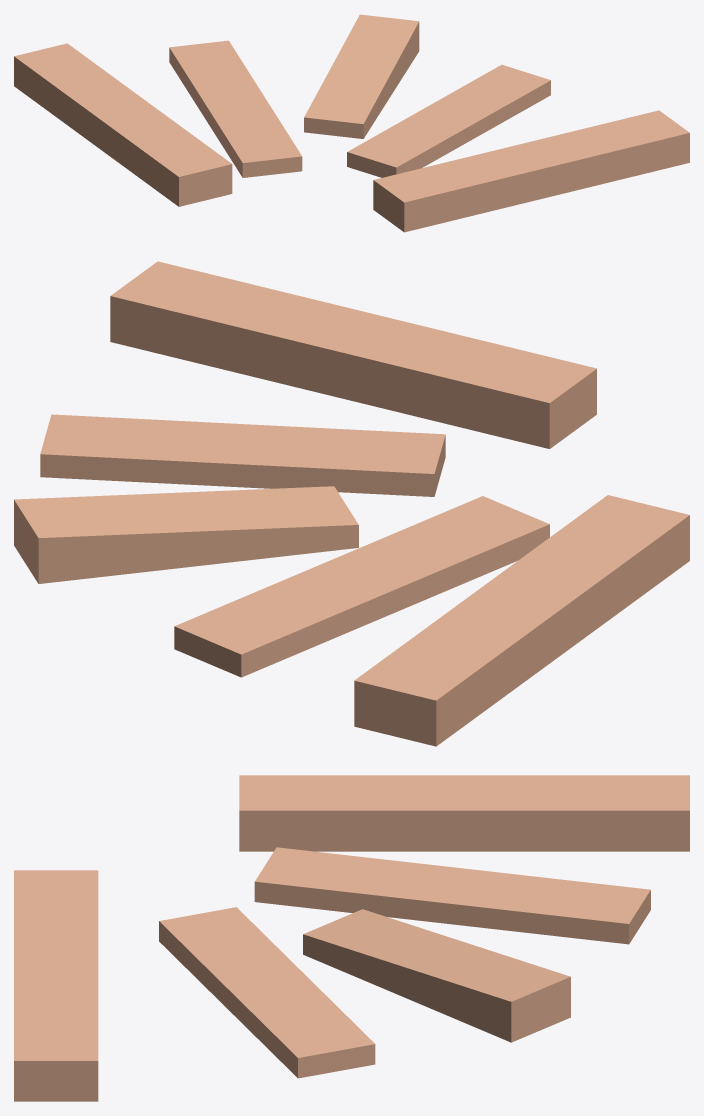
Rendered from path_woodCorner.glb.
The picture shows the model from 3 angles, top to bottom: view 1: azimuth 30°, elevation 25°; view 2: azimuth 150°, elevation 25°; view 3: azimuth 270°, elevation 25°; orthographic projection. The views are drawn at different scales.
Parts seen in each view (by area): view 1: path_woodCorner; view 2: path_woodCorner; view 3: path_woodCorner.
Part boxes in pixels (x1,y1,x2,y2): path_woodCorner: (14, 14, 689, 232); path_woodCorner: (14, 261, 689, 746); path_woodCorner: (14, 775, 689, 1101).
Bounding box in the file's own units: 0.75 × 0.05 × 0.75.
1 material, 1 textured.
